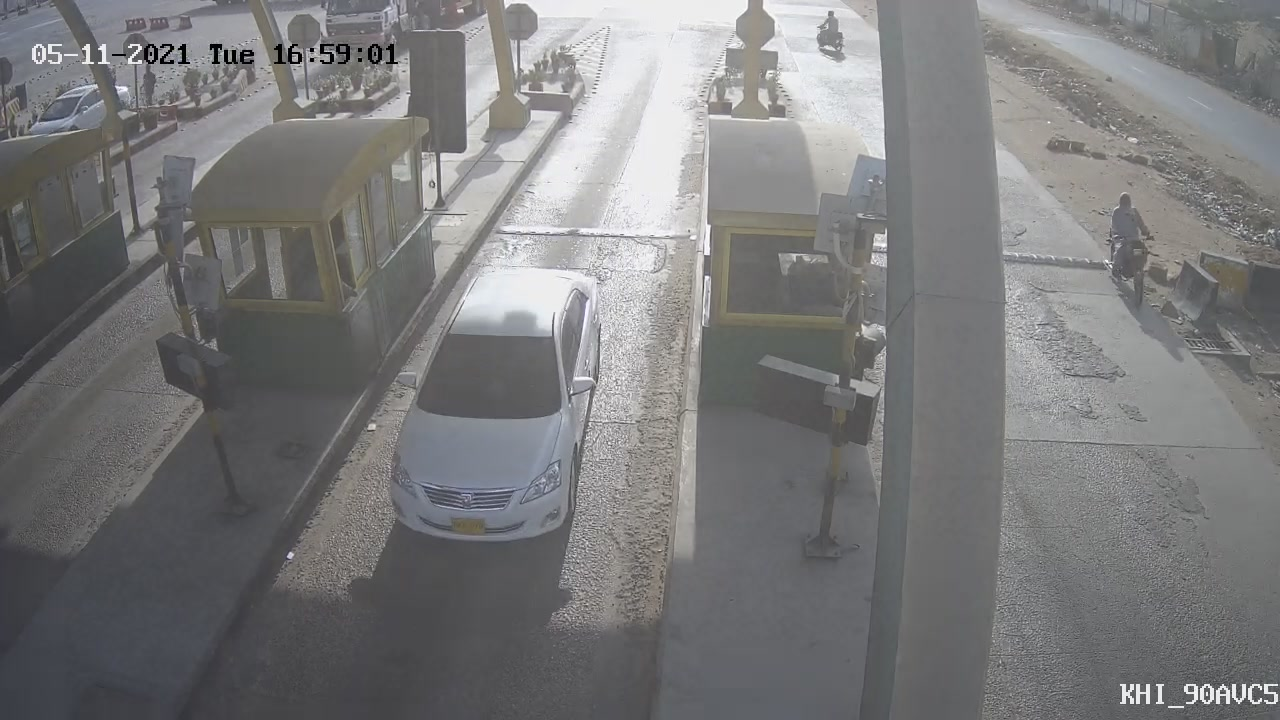F1: (369, 244, 625, 569)
